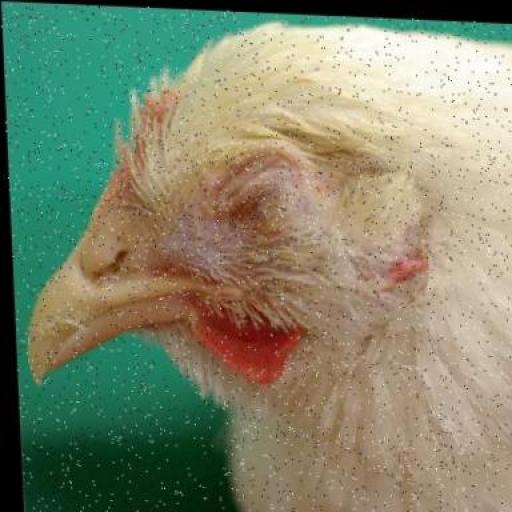disease: (155, 119, 375, 325)
